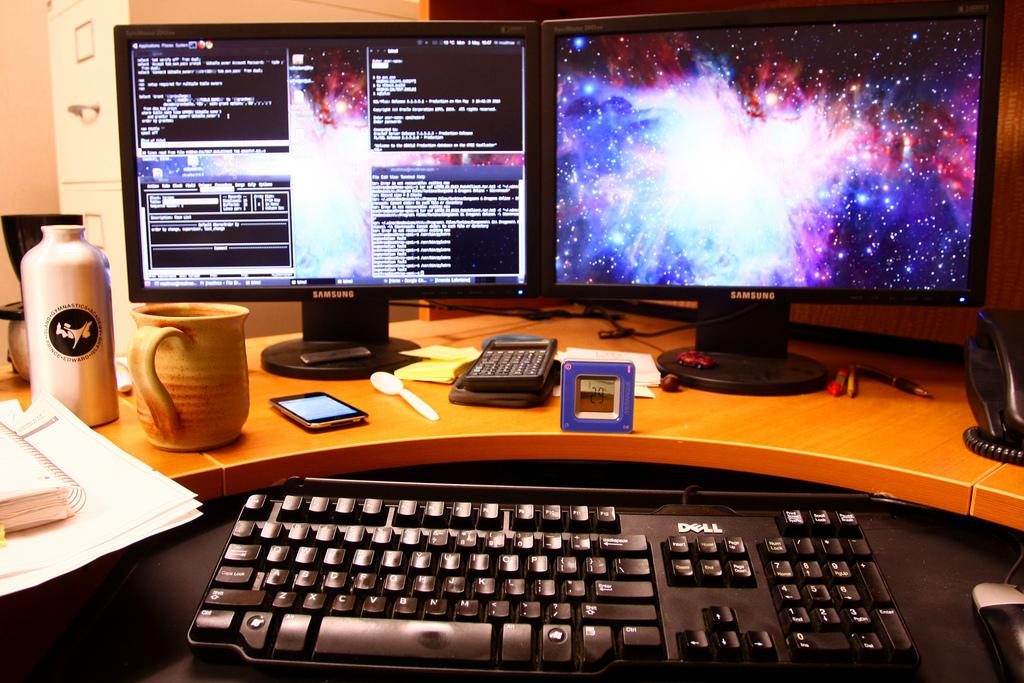monitor: (541, 0, 999, 396), (103, 16, 544, 395)
